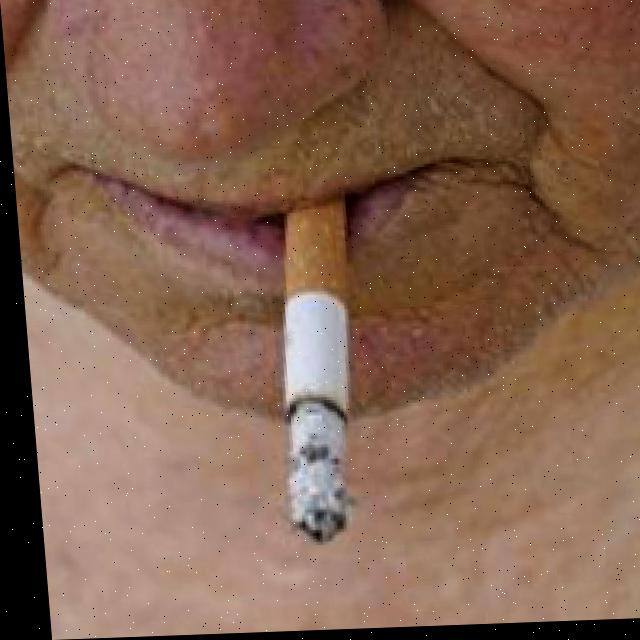cigarette: (262, 208, 367, 547)
